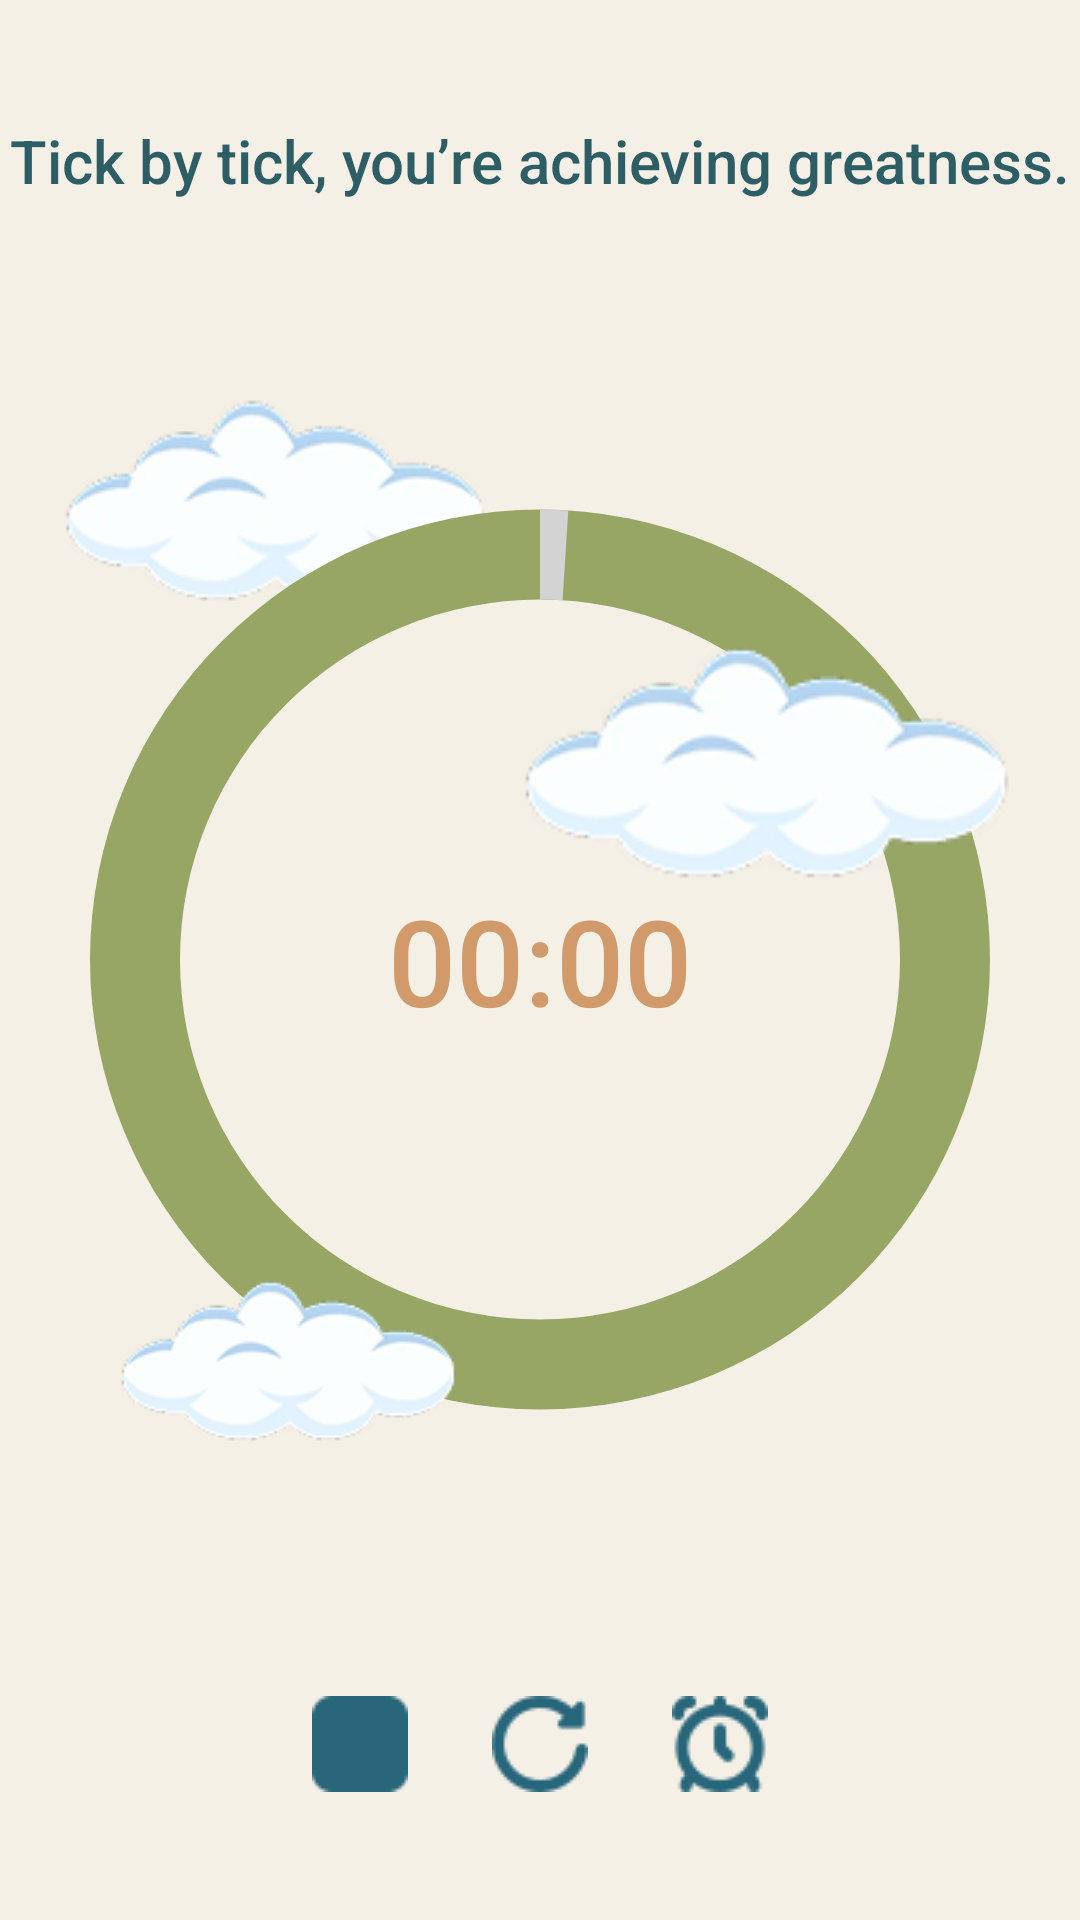

Screen size 1080px×1920px. Icon name, then its center in pixels as (x=x, y=y):
reload: (x=540, y=1744)
